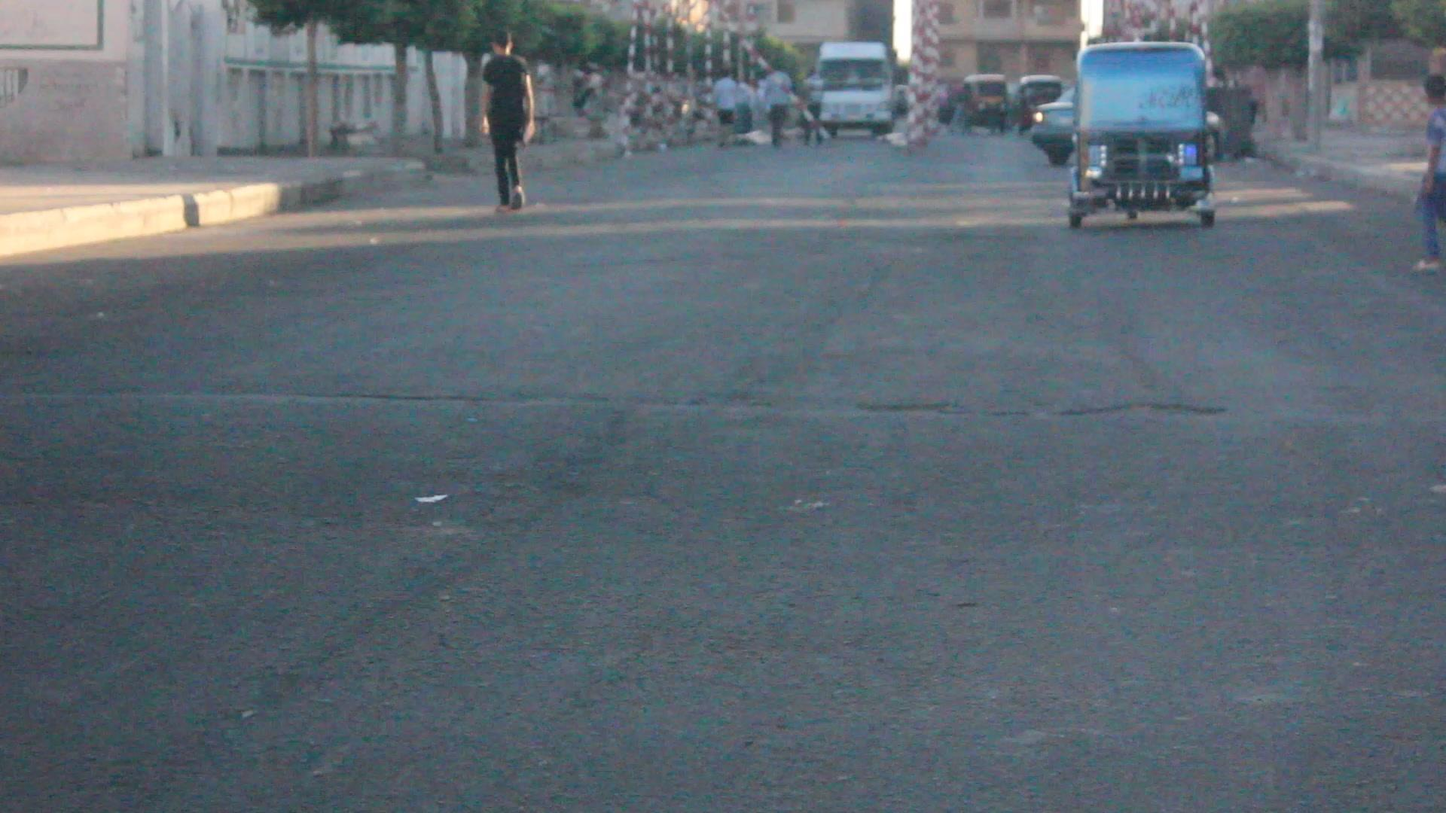Bump: (0, 378, 1446, 570)
Pothole: (616, 393, 1239, 429)
